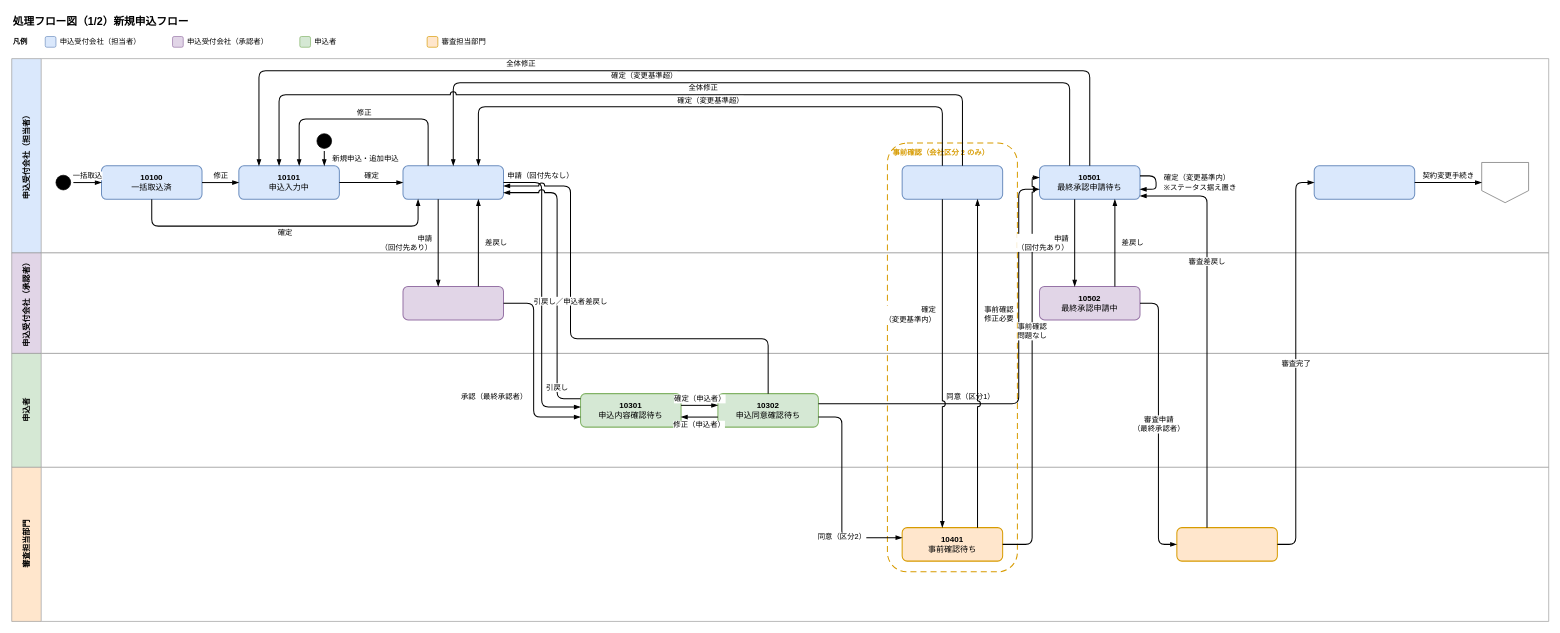
Some shapes in this 1560 by 633 pixel diagram are drawn without their labels. Here are the shapes that lost their labels. From the top down, the box of each, then its label:
(402, 165, 504, 200): 10201 一次承認申請待ち
(901, 165, 1003, 200): 10402 修正対応待ち
(1313, 165, 1415, 200): 10701 審査完了
(1481, 162, 1529, 203): 契約変更 フローへ
(402, 286, 504, 320): 10202 一次承認申請中
(1176, 527, 1278, 561): 10601 審査中
